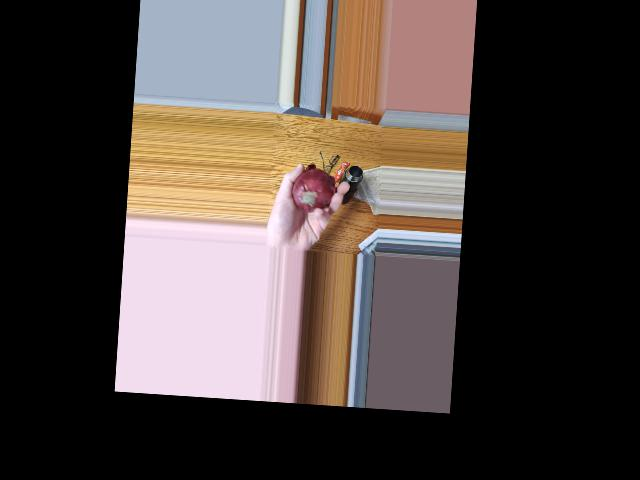onion: (289, 169, 329, 218)
